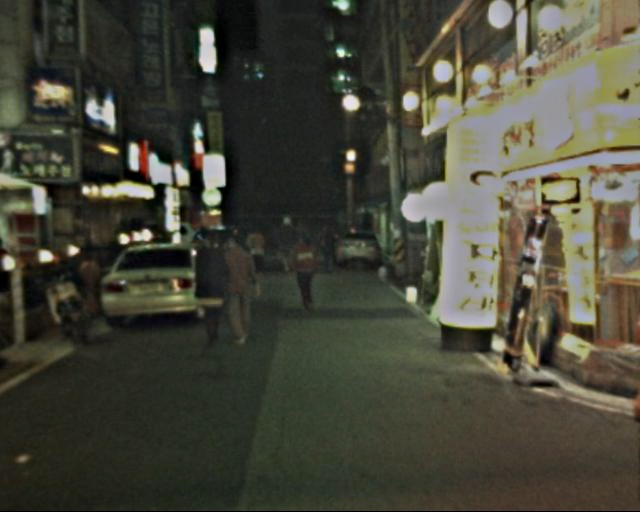person: (196, 225, 240, 354), (216, 227, 262, 350), (293, 225, 329, 314), (243, 225, 269, 284), (277, 217, 298, 269)
